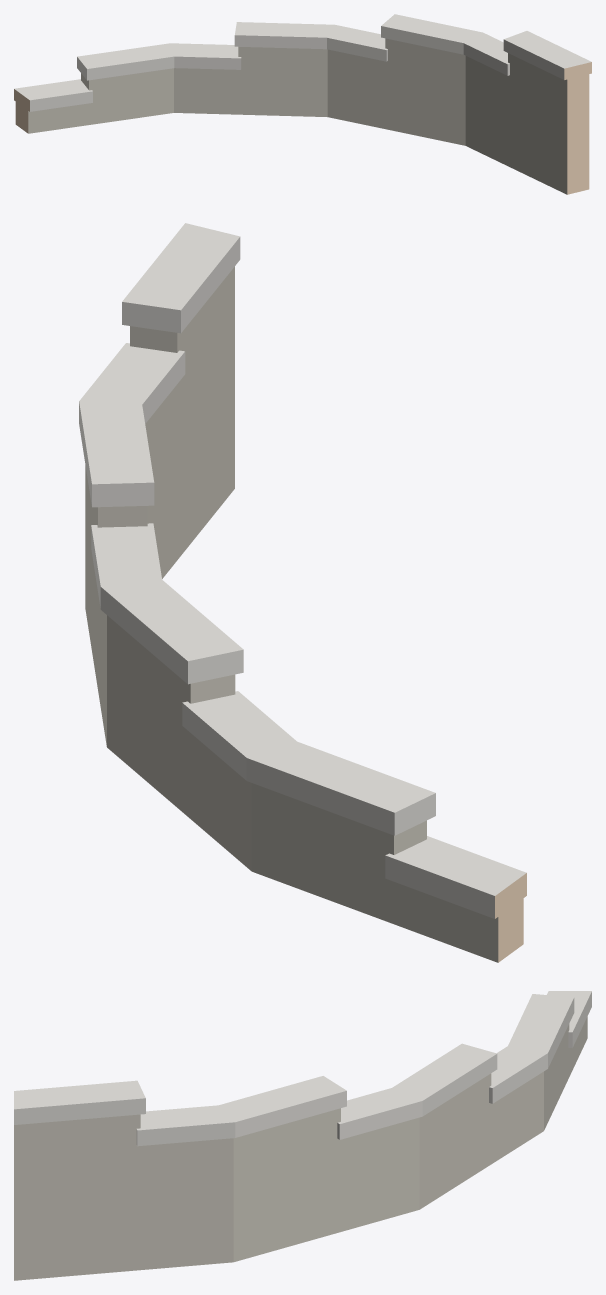
Rendered from Tiered_Retaining_Wall_Stepped_Curve_Short_4x4.glb.
3 views of the same model, one above another, from view 1: azimuth 30°, elevation 25°; view 2: azimuth 150°, elevation 25°; view 3: azimuth 270°, elevation 25° (orthographic). The views are drawn at different scales.
Visible parts, largest first — view 1: Tiered_Retaining_Wall_Stepped_Curve_Short_4x4; view 2: Tiered_Retaining_Wall_Stepped_Curve_Short_4x4; view 3: Tiered_Retaining_Wall_Stepped_Curve_Short_4x4.
Part boxes in pixels (box(x1,y1,x2,y2)): Tiered_Retaining_Wall_Stepped_Curve_Short_4x4: box(14, 14, 591, 194); Tiered_Retaining_Wall_Stepped_Curve_Short_4x4: box(79, 223, 526, 962); Tiered_Retaining_Wall_Stepped_Curve_Short_4x4: box(14, 991, 591, 1280).
Bounding box in the file's own units: 416 × 138 × 416.
